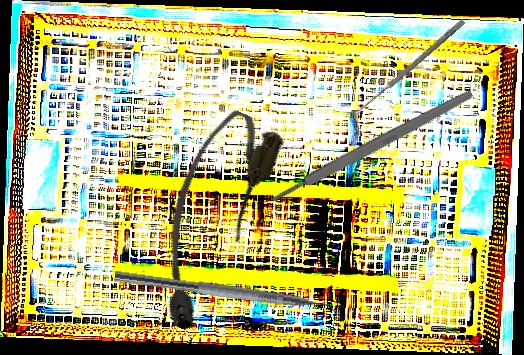Cannula: (129, 101, 289, 338)
Chopper: (112, 270, 348, 327)
Scalpel Handle: (269, 87, 475, 206)
Surgical Spoon: (353, 17, 466, 118)
